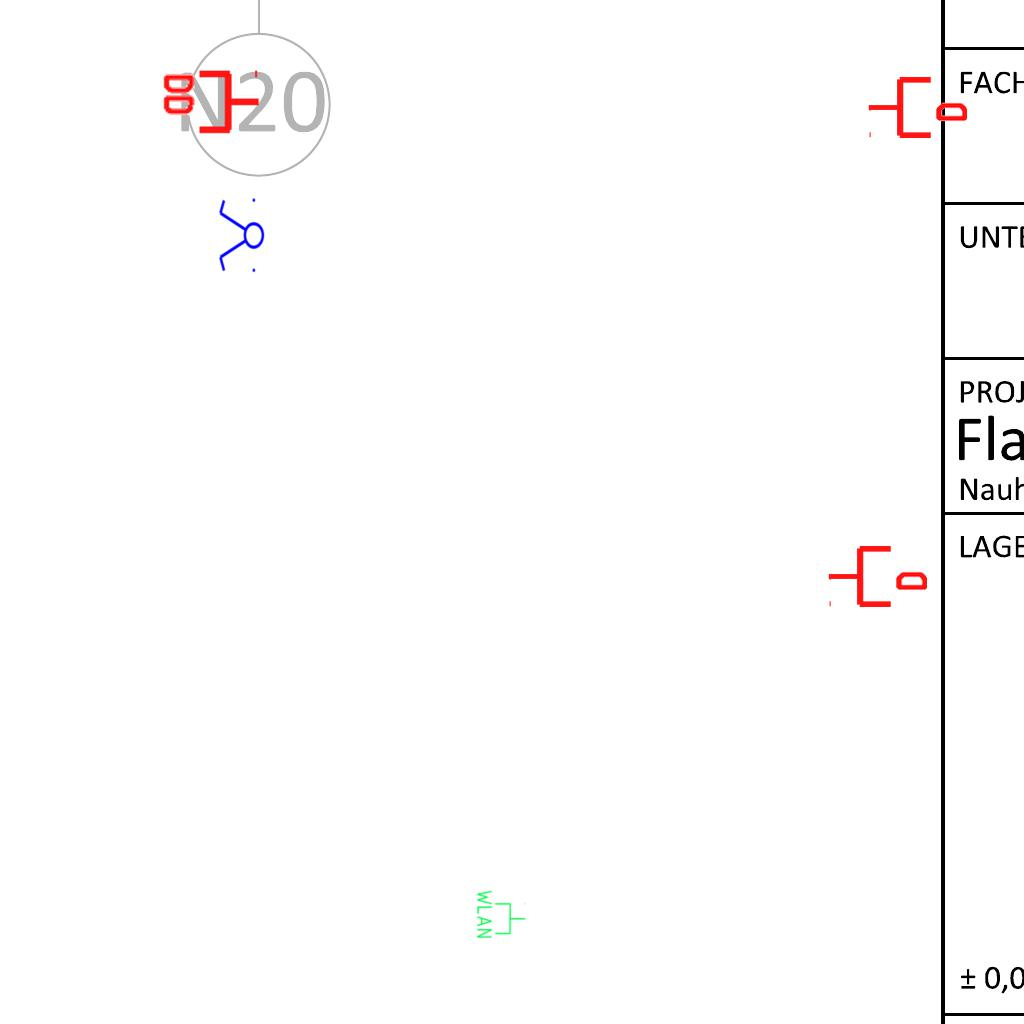Datenanschluss_einfach: (827, 542, 927, 611), (867, 73, 967, 142)
Datenanschluss_zweifach: (159, 69, 262, 138)
Serienschalter: (217, 194, 265, 278)
WLAN: (475, 888, 527, 940)
